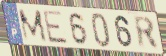0: (90, 12, 112, 49)
6: (68, 12, 89, 46), (114, 14, 134, 49)
E: (42, 10, 70, 46)
M: (17, 9, 49, 44)
R: (132, 14, 161, 51)
